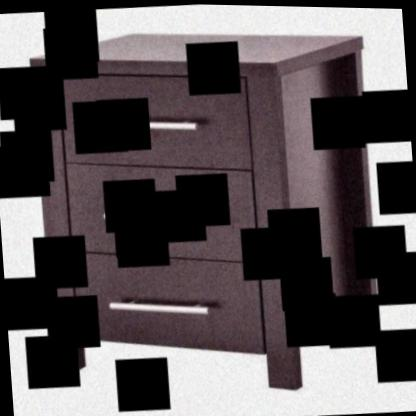Nightstand: (26, 13, 379, 370)
